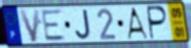2: (96, 7, 118, 41)
A: (125, 7, 149, 40)
E: (40, 8, 68, 43)
J: (74, 8, 92, 41)
P: (147, 5, 169, 41)
V: (17, 8, 41, 44)
